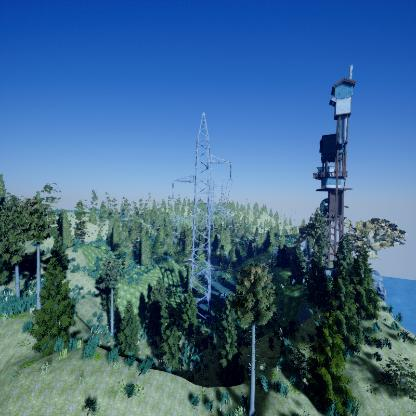tower: (166, 110, 238, 330)
